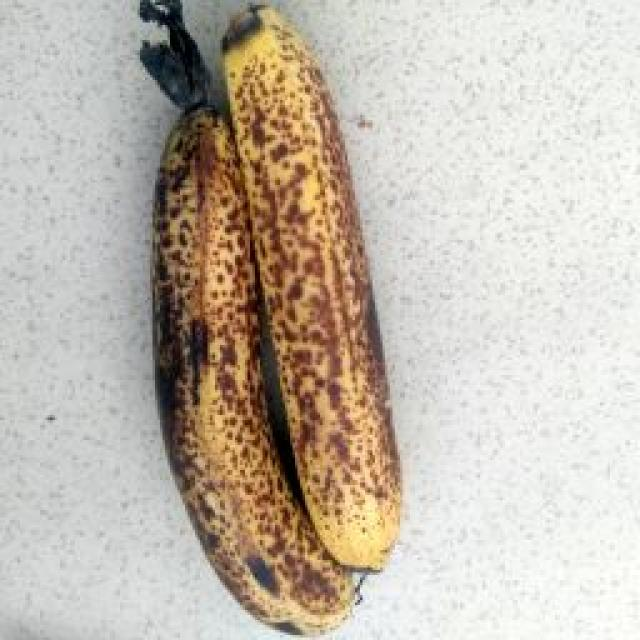banana: (54, 28, 585, 560)
